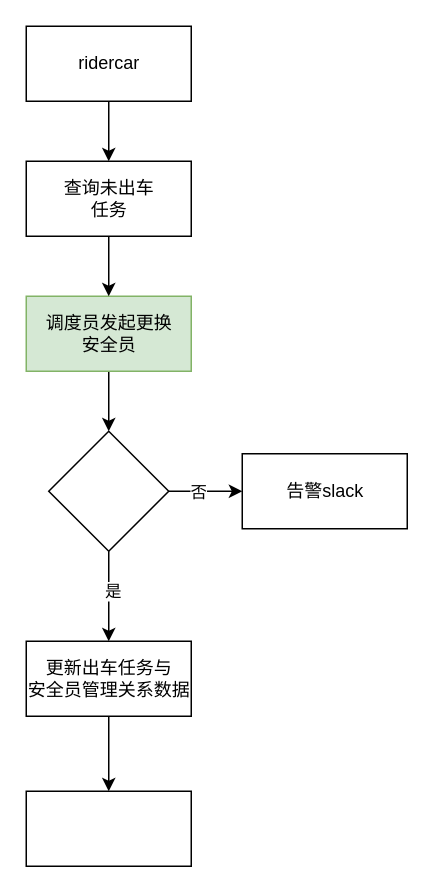
Image size: 434x893. Some labels were removed from this diagram. The box of each missing label's shape, as (x1, y1, x2, y2) in pixels:
slack 通知出车 任务更换安全员: (25, 790, 191, 866)
是否成功: (47, 430, 169, 551)
